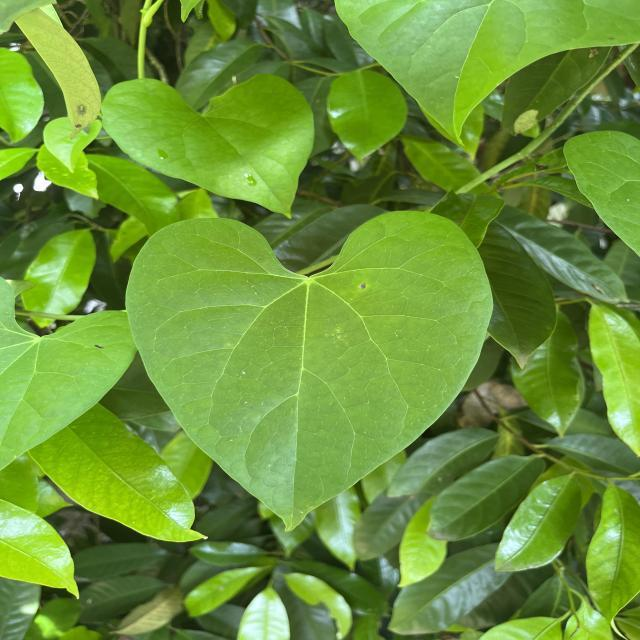Tinospora cordifolia: (123, 206, 496, 535)
